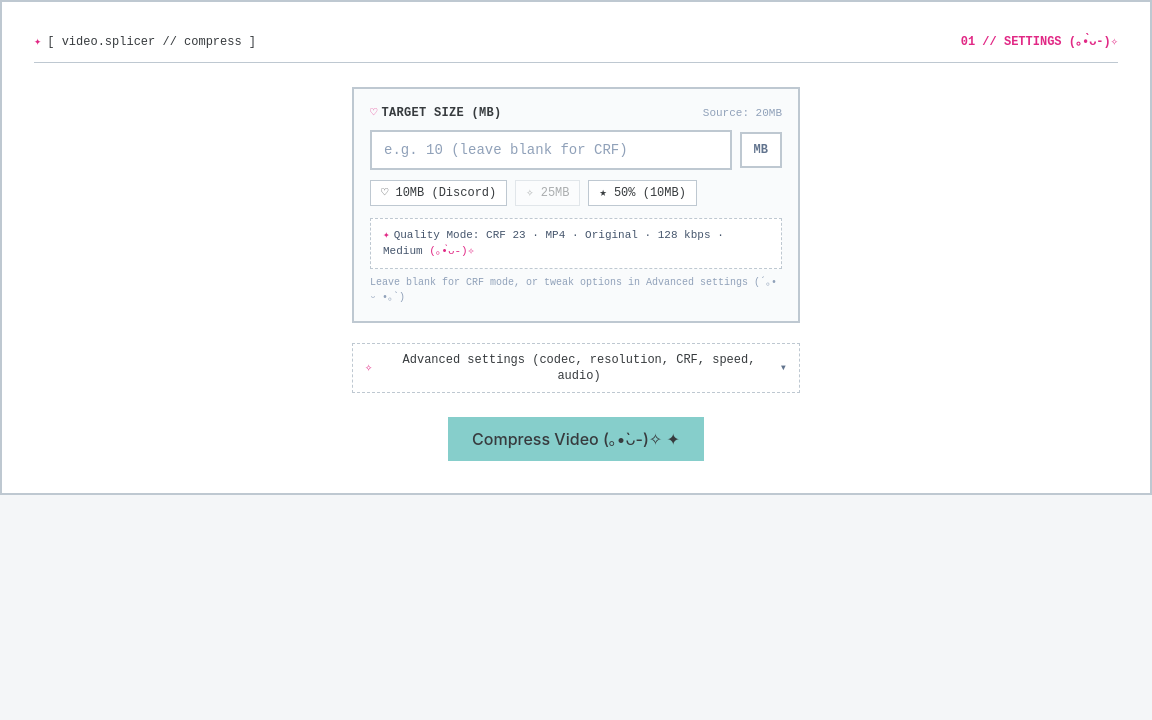
Test: CompressionPanel › polling progress and terminal states › updates progress bar and renders size savings + download link on Ready
Later steps or results of the test are not shown.
Click the button with test id "start-compression-btn": [576, 438] box [448, 416, 704, 460]
Wait 2000 ms
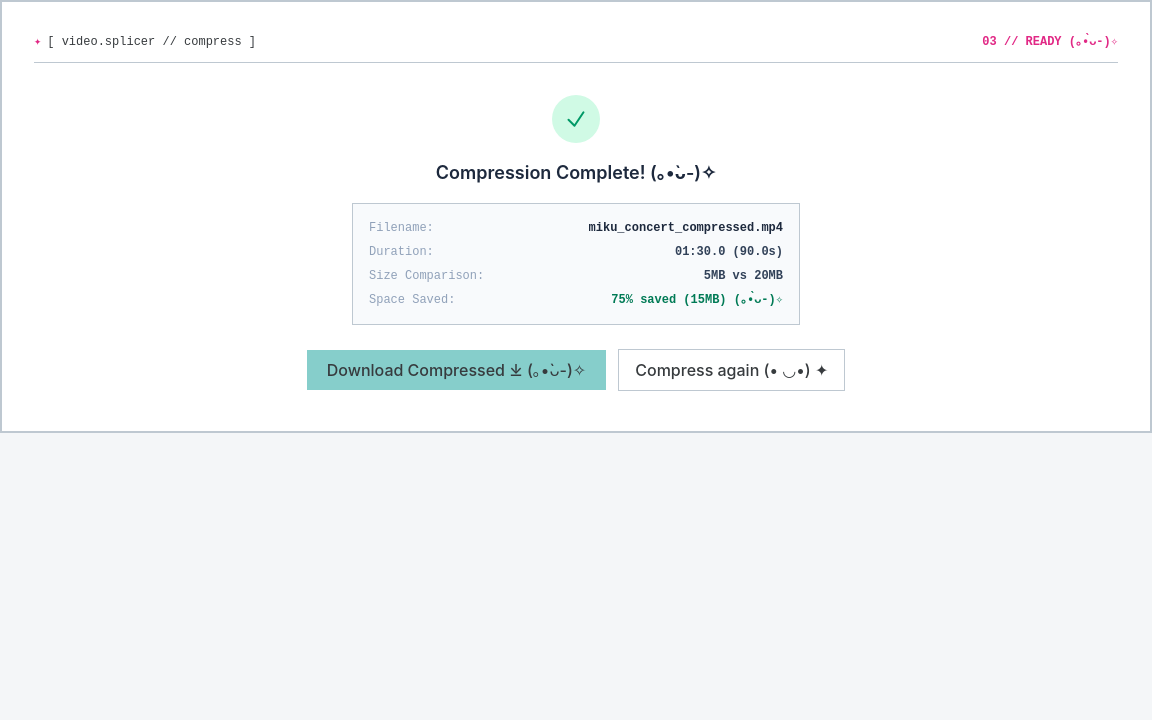
Expected: the element with test id "compression-results" is shown, [307, 95, 845, 391]
Expected: the text with test id "compression-output-filename" reads "miku_concert_compressed.mp4", [589, 221, 783, 235]
Expected: the text with test id "compression-output-duration" reads "01:30.0 (90.0s)", [675, 245, 783, 259]
